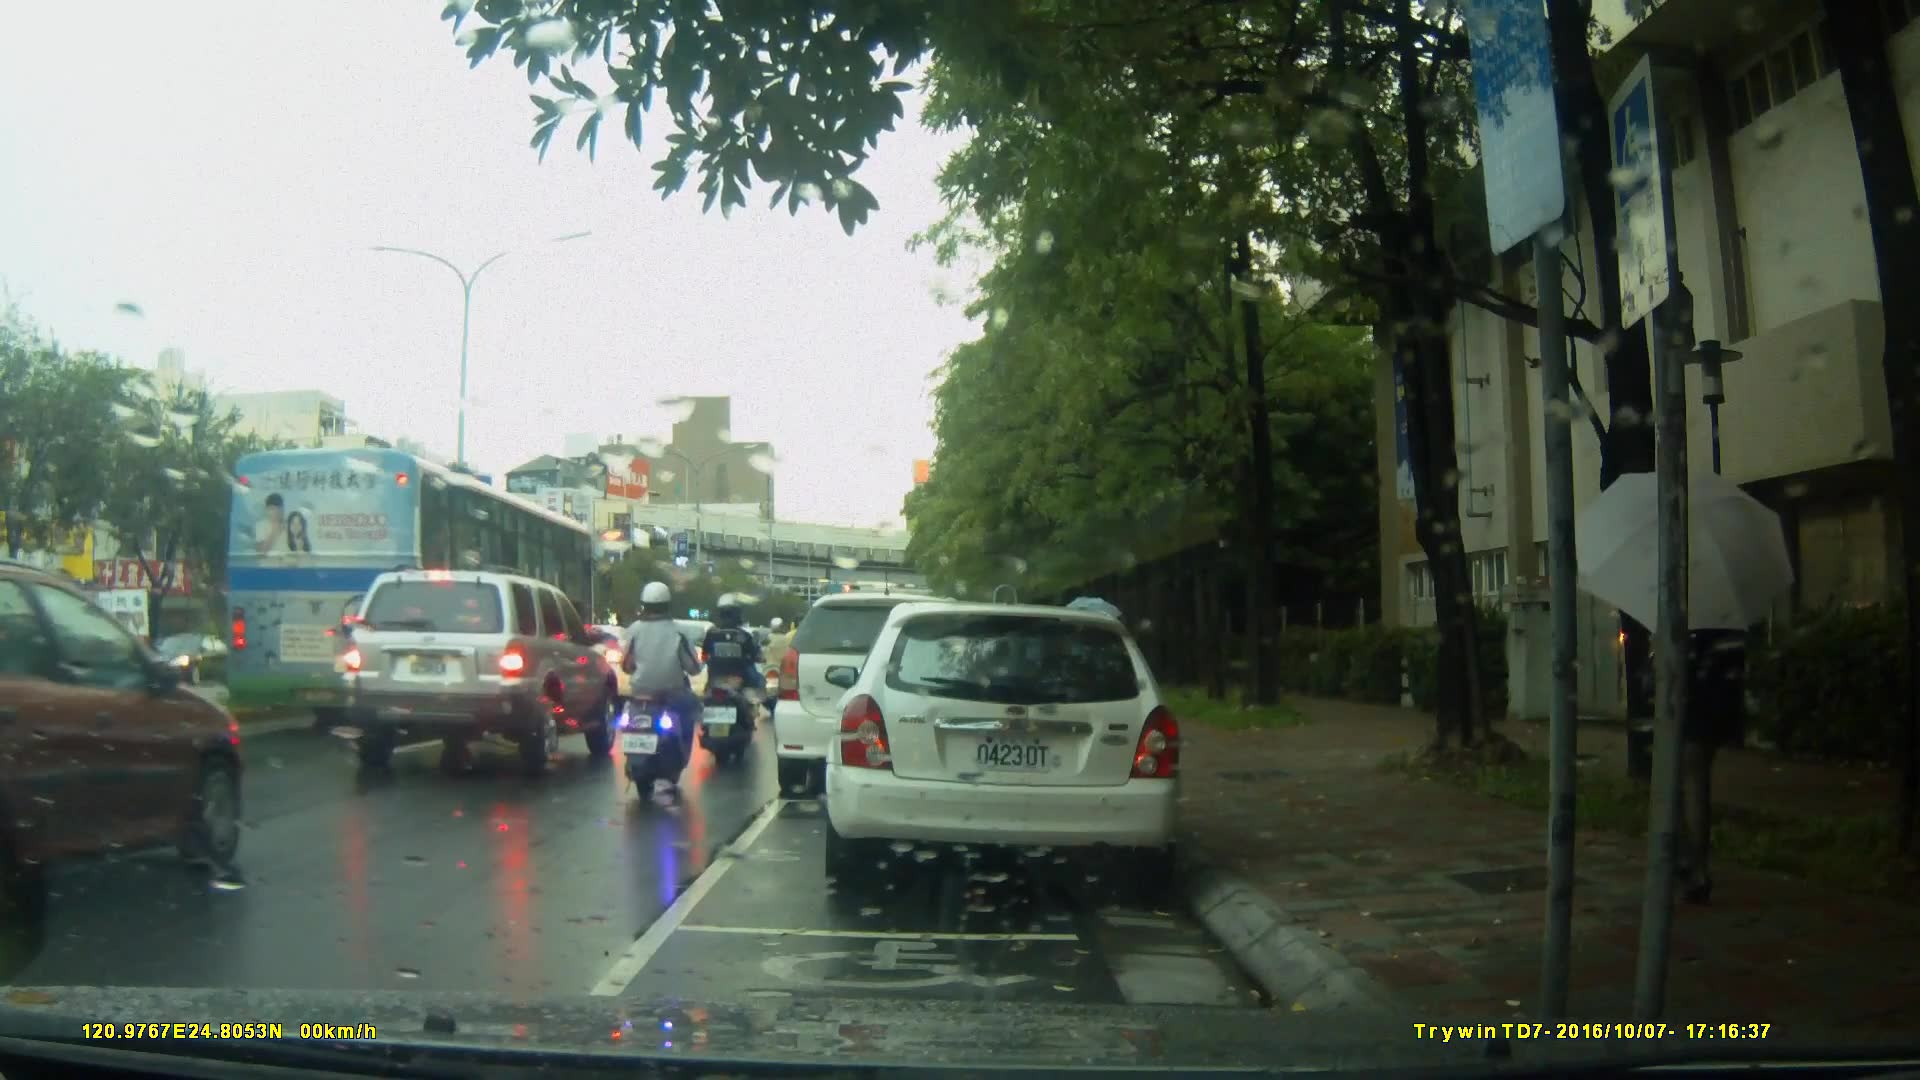pedestrian: (1663, 519, 1798, 908)
rider: (620, 577, 704, 801), (692, 593, 761, 774), (709, 601, 764, 732), (762, 612, 802, 720)
vehicle: (217, 445, 597, 739), (835, 594, 1194, 898), (1, 570, 249, 929), (338, 564, 628, 770), (776, 590, 1026, 784)
